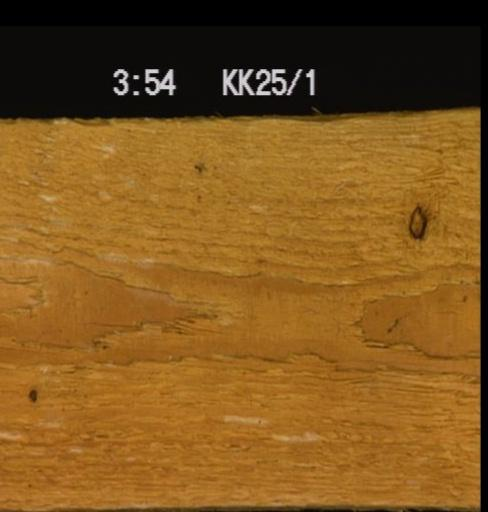dry_knot: (405, 201, 427, 241)
small_knot: (25, 385, 38, 403)
